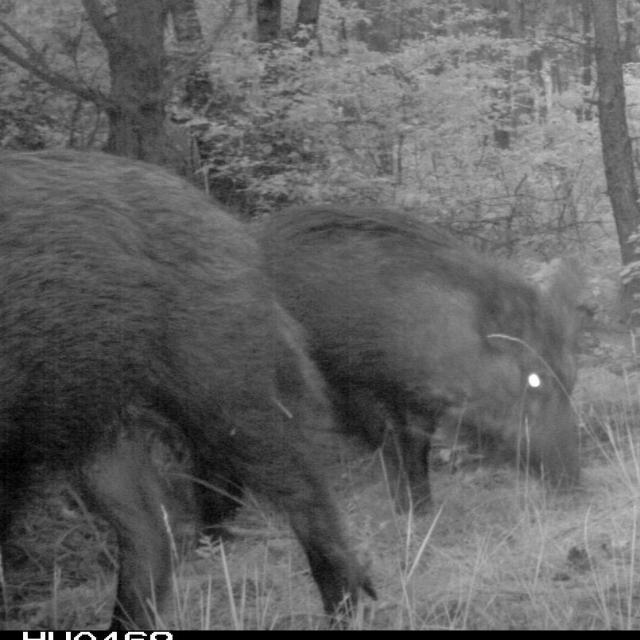pig: (264, 178, 608, 512)
